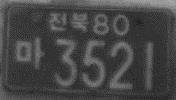0: (113, 13, 130, 36)
1: (142, 39, 155, 92)
2: (108, 39, 136, 90)
3: (53, 37, 78, 87)
5: (81, 39, 106, 87)
8: (93, 12, 109, 36)
마: (14, 35, 46, 71)
전북_O: (49, 10, 89, 33)
